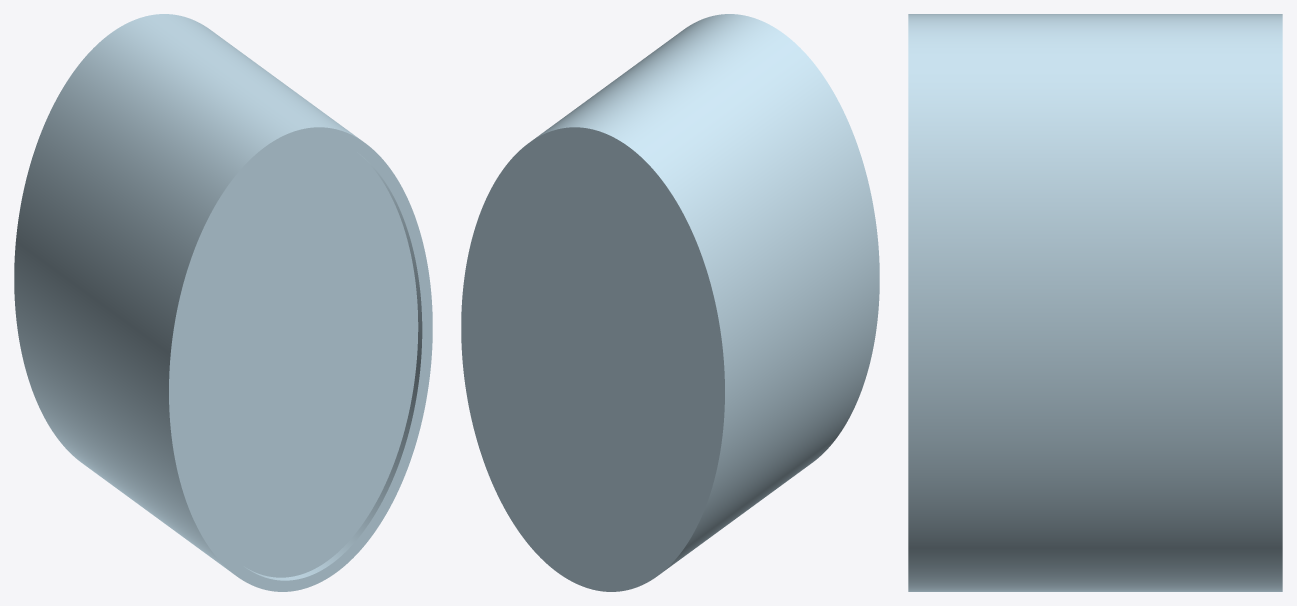
File: Assembly 1 - Part 1 (2).gltf
The picture shows the model from 3 angles, left to right: view 1: azimuth 30°, elevation 25°; view 2: azimuth 150°, elevation 25°; view 3: azimuth 270°, elevation 25°; orthographic projection. The views are drawn at different scales.
Parts seen in each view (by area): view 1: Part 1; view 2: Part 1; view 3: Part 1.
Boxes of the visible parts, bbox=[...] form: Part 1: bbox=[14, 14, 432, 591]; Part 1: bbox=[461, 14, 879, 591]; Part 1: bbox=[908, 14, 1282, 591].
Size of the model in its own units: 0.75 by 1.25 by 0.762.
